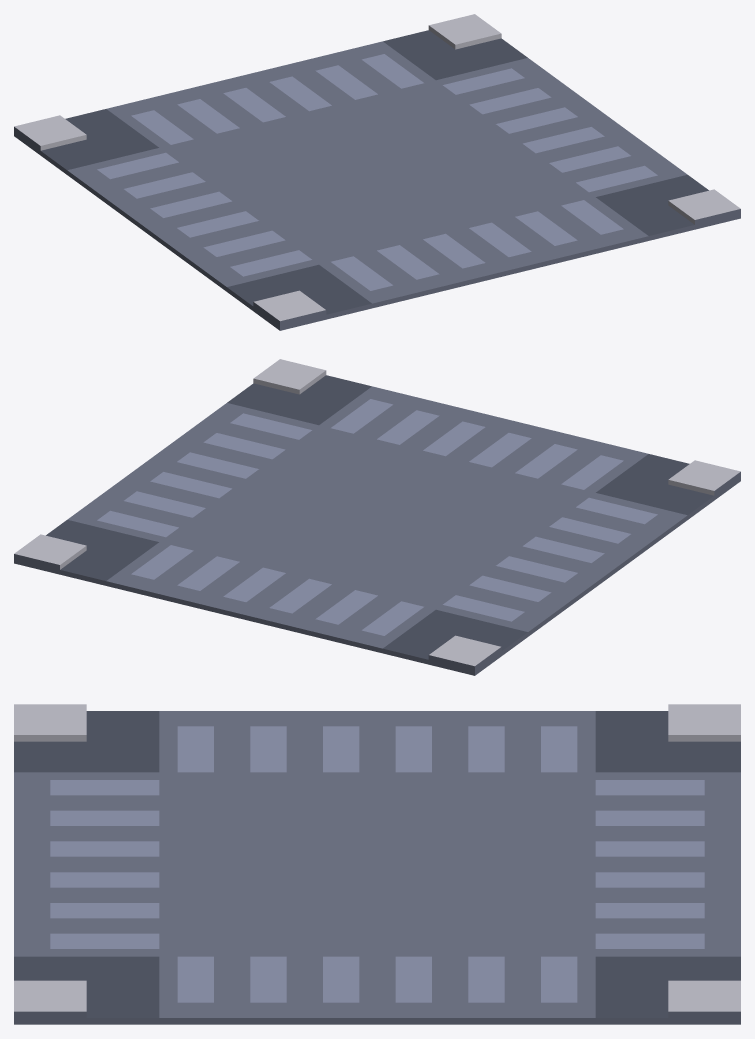
File: road_crossroadPath.glb
3 views of the same model, one above another, from view 1: azimuth 30°, elevation 25°; view 2: azimuth 150°, elevation 25°; view 3: azimuth 270°, elevation 25° (orthographic). The views are drawn at different scales.
Parts seen in each view (by area): view 1: road_crossroadPath_bfa1e9, road_crossroadPath_f9ed49, road_crossroadPath_3206ef, road_crossroadPath_190051; view 2: road_crossroadPath_bfa1e9, road_crossroadPath_f9ed49, road_crossroadPath_3206ef, road_crossroadPath_190051; view 3: road_crossroadPath_bfa1e9, road_crossroadPath_f9ed49, road_crossroadPath_3206ef, road_crossroadPath_190051.
Boxes of the visible parts, x1=… form: road_crossroadPath_bfa1e9: x1=14, y1=41, x2=740, y2=330; road_crossroadPath_f9ed49: x1=97, y1=54, x2=657, y2=290; road_crossroadPath_3206ef: x1=41, y1=30, x2=708, y2=314; road_crossroadPath_190051: x1=14, y1=14, x2=740, y2=321; road_crossroadPath_bfa1e9: x1=14, y1=386, x2=740, y2=675; road_crossroadPath_f9ed49: x1=97, y1=399, x2=657, y2=635; road_crossroadPath_3206ef: x1=46, y1=375, x2=713, y2=659; road_crossroadPath_190051: x1=14, y1=359, x2=740, y2=666; road_crossroadPath_bfa1e9: x1=14, y1=711, x2=740, y2=1024; road_crossroadPath_f9ed49: x1=50, y1=726, x2=704, y2=1002; road_crossroadPath_3206ef: x1=14, y1=711, x2=740, y2=1017; road_crossroadPath_190051: x1=14, y1=704, x2=740, y2=1011.
Bounding box in the file's own units: 1 × 0.02 × 1.
